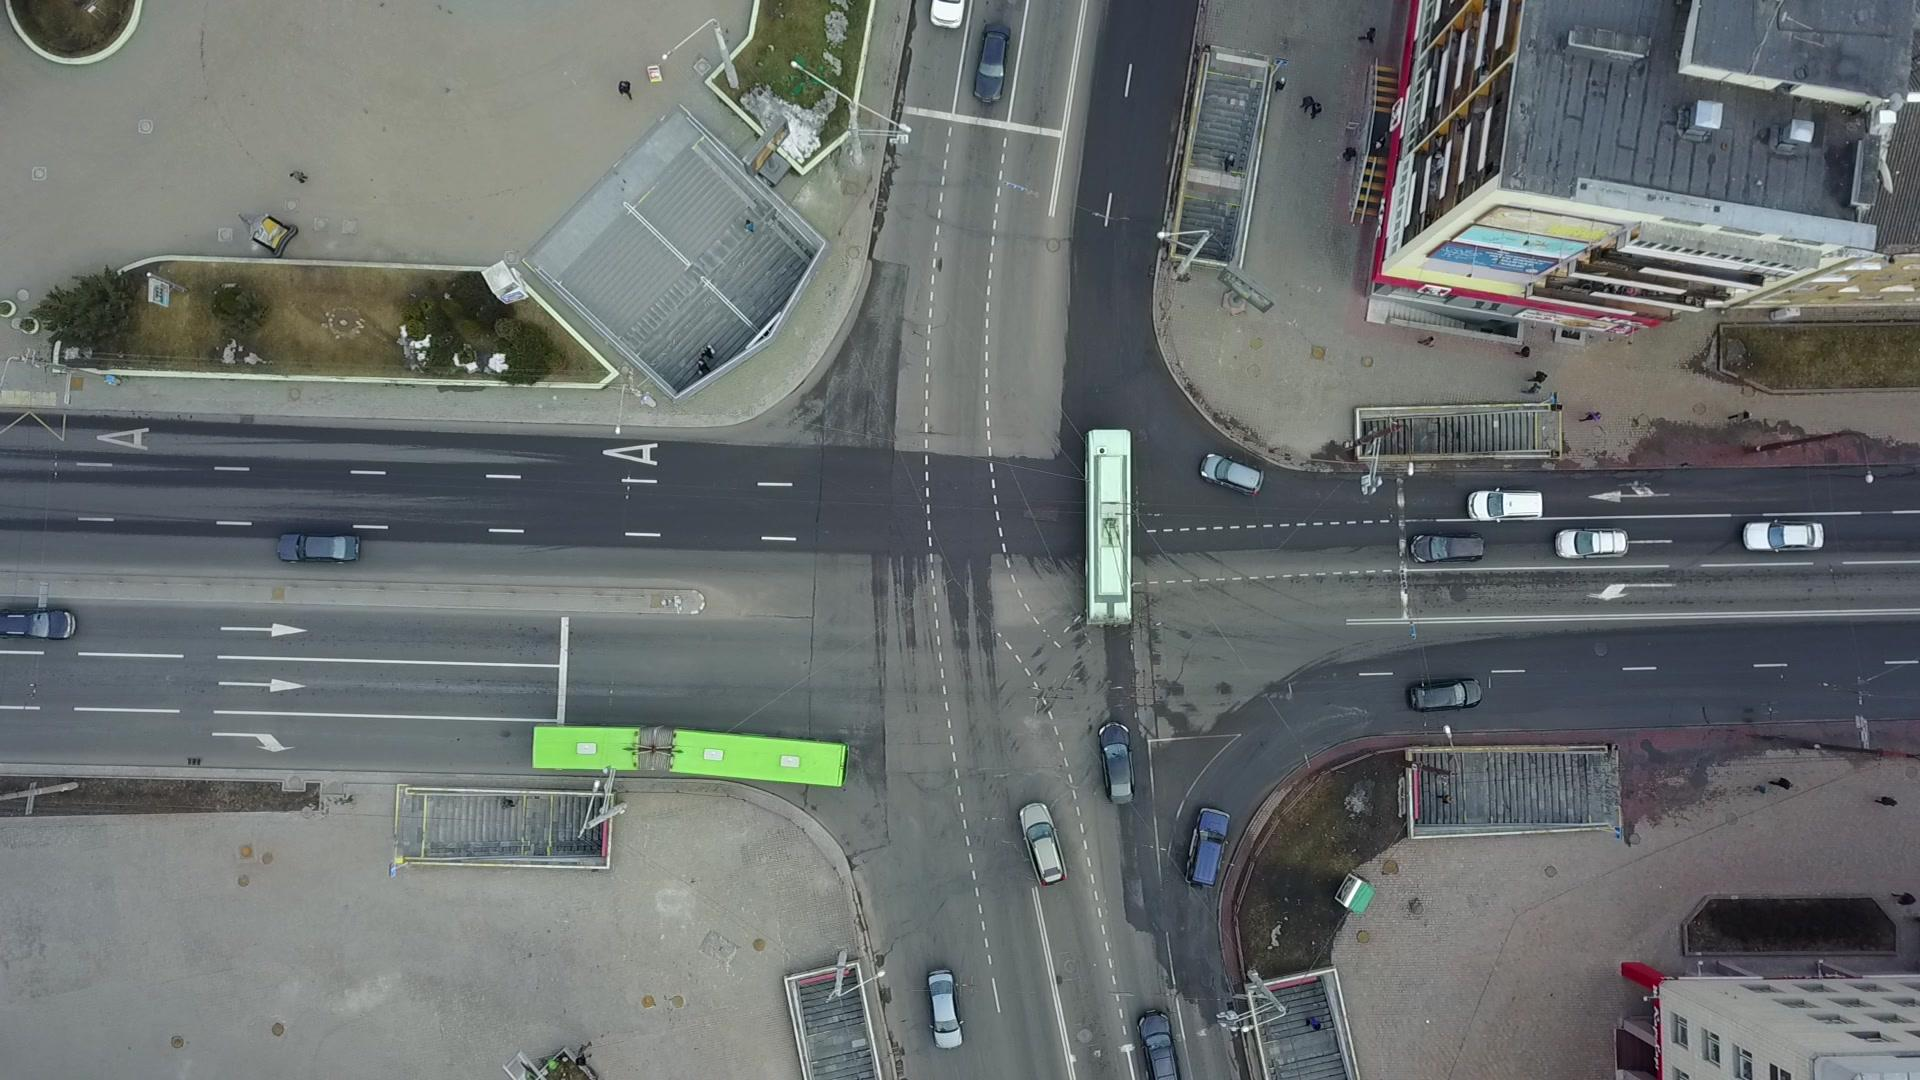car: (1015, 800, 1069, 887), (1182, 804, 1232, 890), (1095, 719, 1138, 804), (924, 967, 967, 1050), (972, 22, 1011, 104), (1197, 451, 1265, 498), (1406, 676, 1485, 713), (276, 531, 363, 564), (1741, 518, 1824, 553), (1407, 530, 1486, 564), (1553, 526, 1629, 560)
